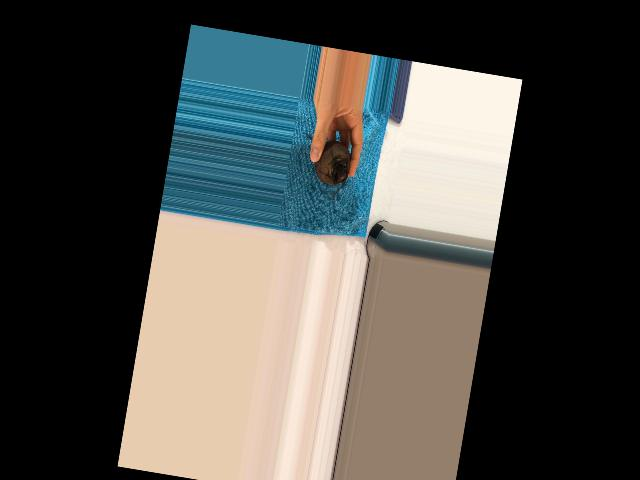beet: (294, 133, 353, 201)
